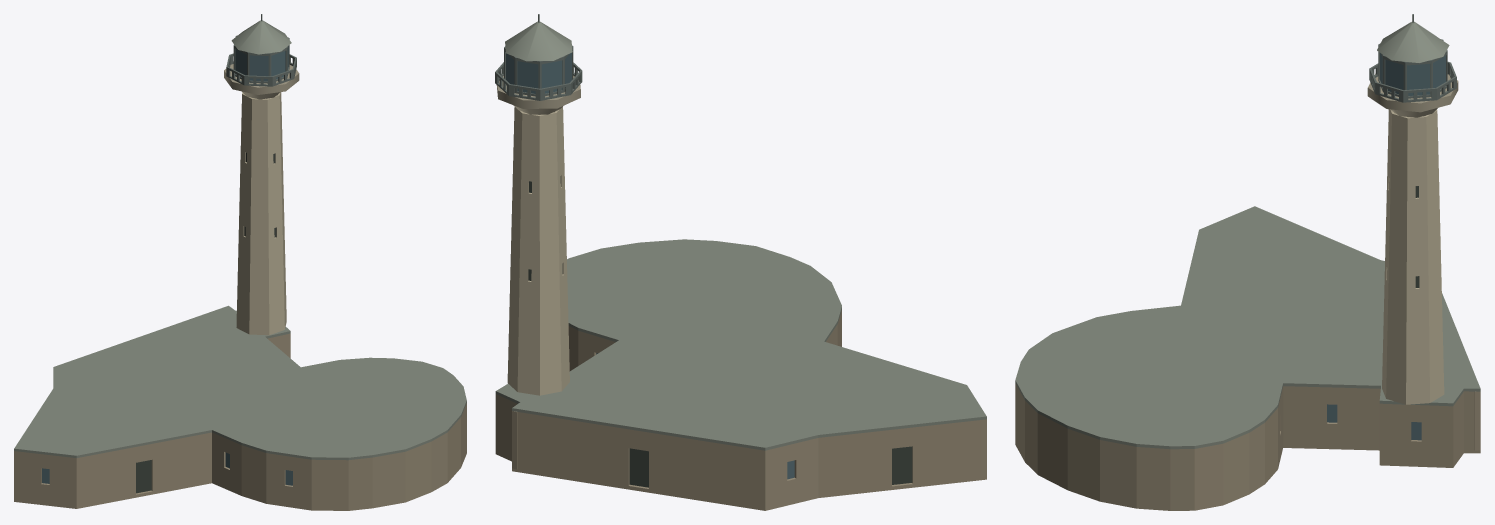
Rendered from phare-de-verzenay-near.glb.
The picture shows the model from 3 angles, left to right: view 1: azimuth 30°, elevation 25°; view 2: azimuth 150°, elevation 25°; view 3: azimuth 270°, elevation 25°; orthographic projection. The views are drawn at different scales.
Parts seen in each view (by area): view 1: phare-de-verzenay-0-roof, phare-de-verzenay-0-stone, phare-de-verzenay-0-shaft, phare-de-verzenay-0-glass, phare-de-verzenay-0-metal, phare-de-verzenay-0-trim, phare-de-verzenay-0-shadow; view 2: phare-de-verzenay-0-roof, phare-de-verzenay-0-stone, phare-de-verzenay-0-shaft, phare-de-verzenay-0-metal, phare-de-verzenay-0-glass, phare-de-verzenay-0-shadow, phare-de-verzenay-0-trim; view 3: phare-de-verzenay-0-roof, phare-de-verzenay-0-stone, phare-de-verzenay-0-shaft, phare-de-verzenay-0-glass, phare-de-verzenay-0-metal, phare-de-verzenay-0-trim.
Part boxes in pixels (<box>): phare-de-verzenay-0-roof: <box>14,20,466,460</box>; phare-de-verzenay-0-stone: <box>14,333,466,510</box>; phare-de-verzenay-0-shaft: <box>236,92,286,335</box>; phare-de-verzenay-0-glass: <box>42,46,292,485</box>; phare-de-verzenay-0-metal: <box>226,14,296,86</box>; phare-de-verzenay-0-trim: <box>224,62,299,99</box>; phare-de-verzenay-0-shadow: <box>136,152,276,493</box>; phare-de-verzenay-0-roof: <box>495,21,986,450</box>; phare-de-verzenay-0-stone: <box>495,310,986,510</box>; phare-de-verzenay-0-shaft: <box>507,107,569,395</box>; phare-de-verzenay-0-metal: <box>495,14,582,100</box>; phare-de-verzenay-0-glass: <box>506,52,794,479</box>; phare-de-verzenay-0-shadow: <box>528,176,912,487</box>; phare-de-verzenay-0-trim: <box>496,76,580,114</box>; phare-de-verzenay-0-roof: <box>1015,21,1480,449</box>; phare-de-verzenay-0-stone: <box>1015,383,1480,510</box>; phare-de-verzenay-0-shaft: <box>1382,109,1444,404</box>; phare-de-verzenay-0-glass: <box>1327,53,1445,440</box>; phare-de-verzenay-0-metal: <box>1369,14,1456,102</box>; phare-de-verzenay-0-trim: <box>1367,73,1458,117</box>.
Size of the model in its own units: 34.59 by 29.7 by 28.33.
